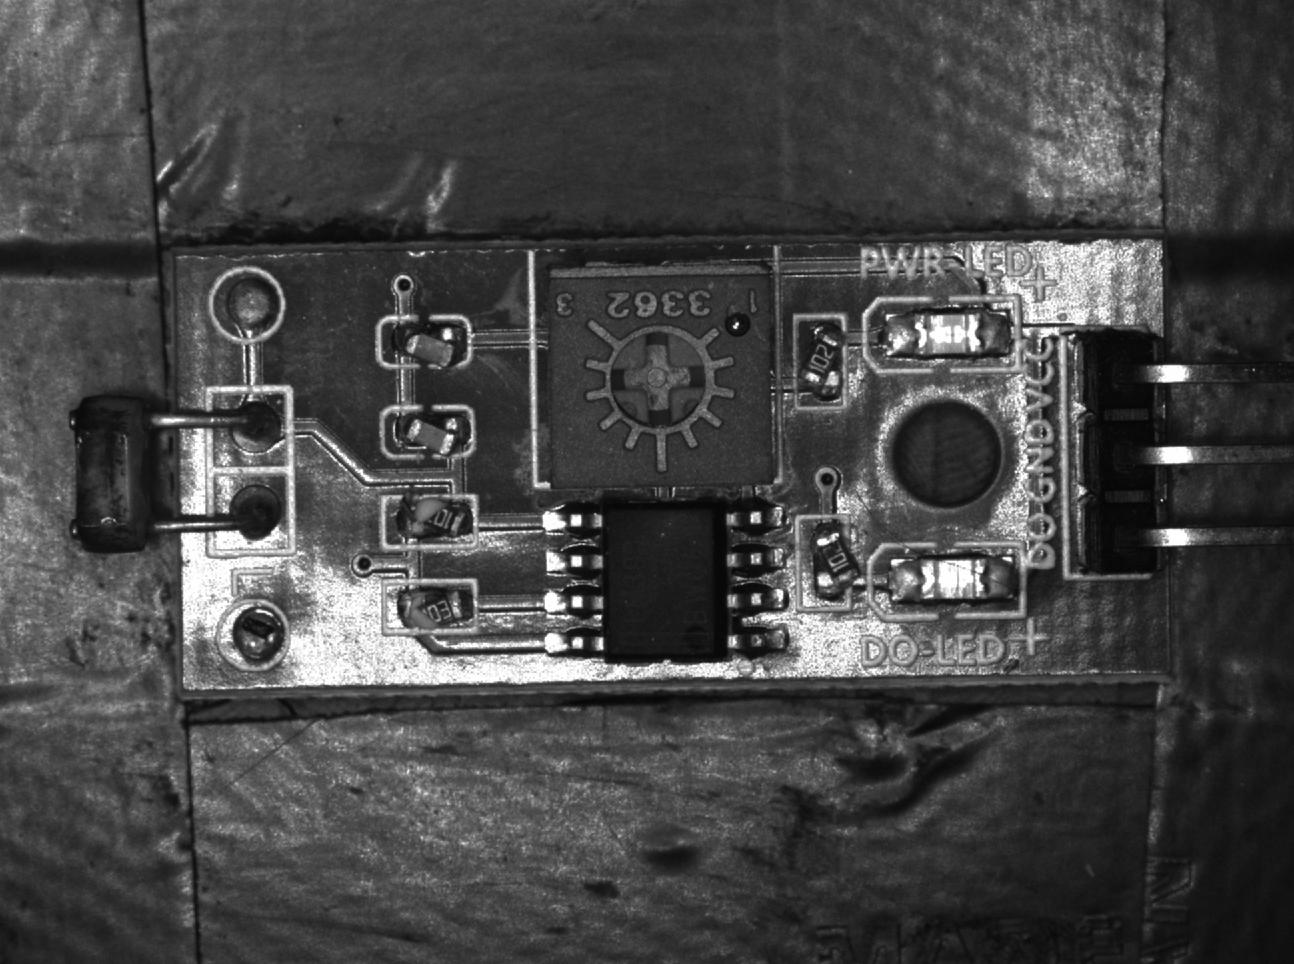lifted: (383, 492, 481, 548), (376, 315, 473, 371), (380, 580, 482, 633), (377, 408, 476, 460), (801, 518, 857, 610), (794, 313, 847, 404)
